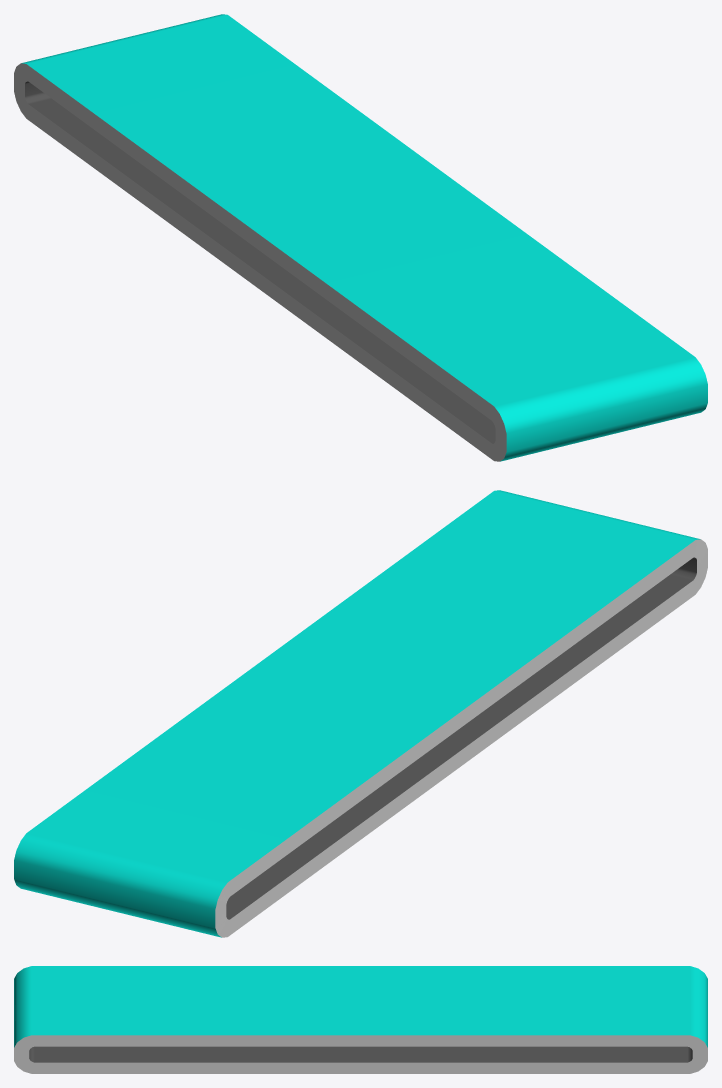
Rendered from conveyorBelt.fbx.
3 views of the same model, one above another, from view 1: azimuth 30°, elevation 25°; view 2: azimuth 150°, elevation 25°; view 3: azimuth 270°, elevation 25° (orthographic). The views are drawn at different scales.
Parts seen in each view (by area): view 1: conveyorBelt; view 2: conveyorBelt; view 3: conveyorBelt.
Boxes of the visible parts, x1=… form: conveyorBelt: x1=14, y1=14, x2=707, y2=461; conveyorBelt: x1=14, y1=490, x2=707, y2=937; conveyorBelt: x1=14, y1=966, x2=707, y2=1073.
Bounding box in the file's own units: 1.18 × 0.3067 × 5.
